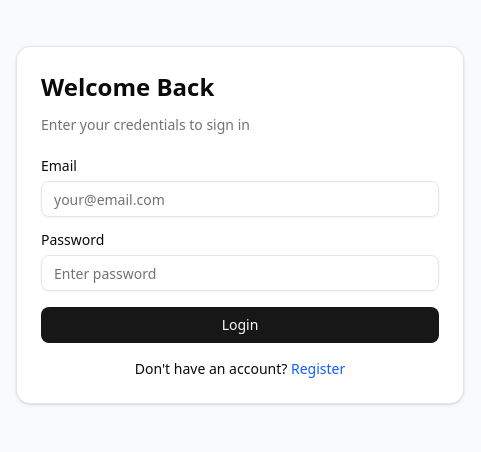
Test: Login Page › displays error message on login failure
The width and height of the screenshot is (481, 452).
In the field labelled "Email": (240, 199) [41,181,439,217], type "test@example.com"
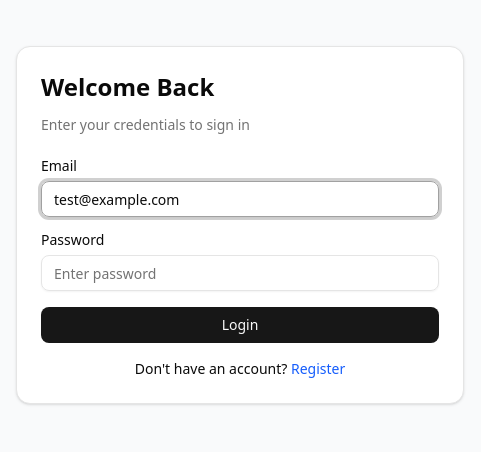
In the password field labelled "Password": (240, 273) [41,255,439,291], type "wrongpassword"
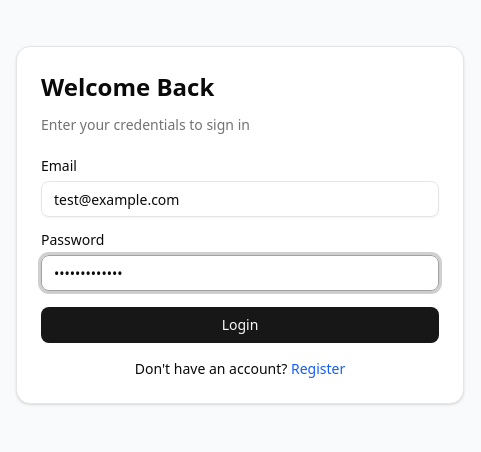
Click the button "Login": (240, 325) [41,307,439,343]
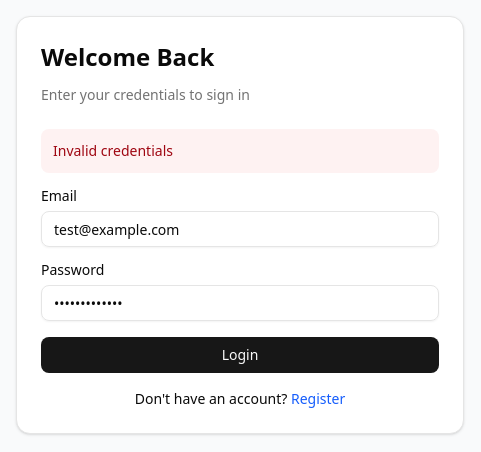
Now the text "Invalid credentials" is shown, box [41,129,439,173]
